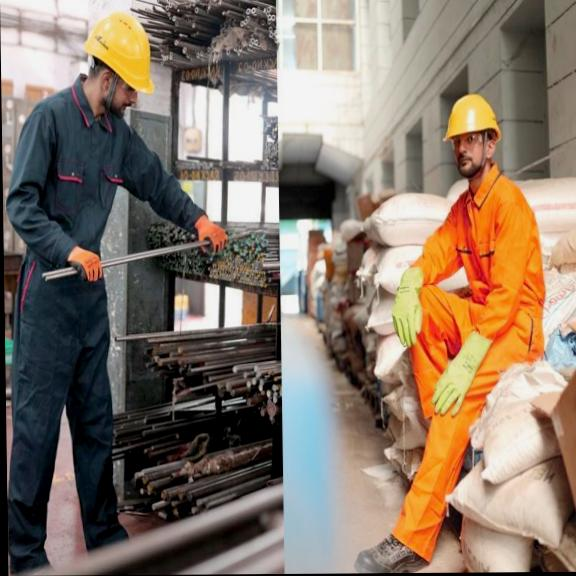no_safety_vest: (23, 96, 129, 297)
